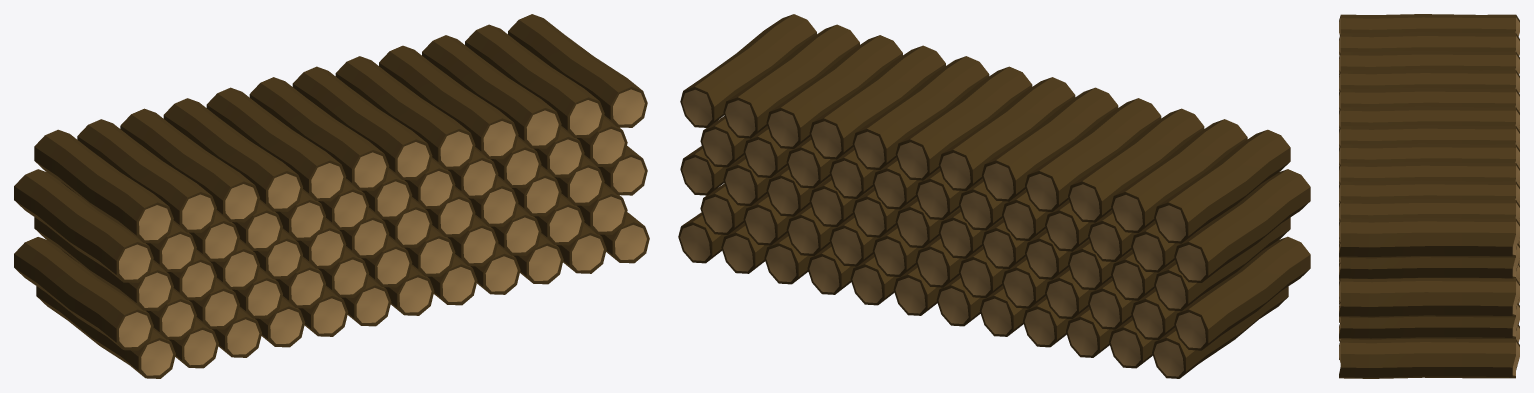
The model's file is BigLogPile.fbx.
The picture shows the model from 3 angles, left to right: view 1: azimuth 30°, elevation 25°; view 2: azimuth 150°, elevation 25°; view 3: azimuth 270°, elevation 25°; orthographic projection. The views are drawn at different scales.
Visible parts, largest first — view 1: BigTreeLogPile; view 2: BigTreeLogPile; view 3: BigTreeLogPile.
Part boxes in pixels (bbox=[...]): BigTreeLogPile: bbox=[14, 14, 649, 378]; BigTreeLogPile: bbox=[678, 14, 1310, 378]; BigTreeLogPile: bbox=[1339, 14, 1519, 378].
Bounding box in the file's own units: 374 × 117 × 124.
